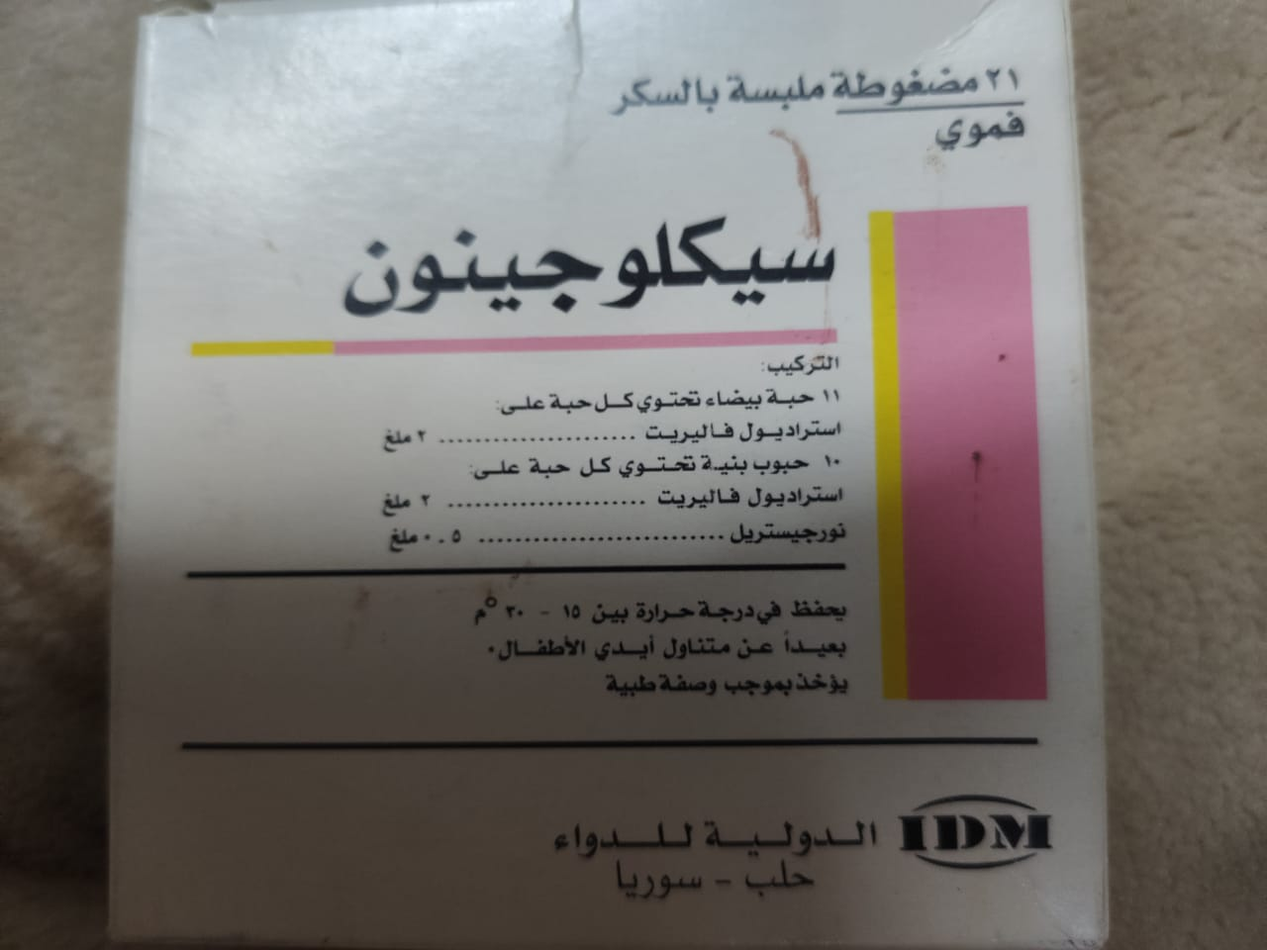Medicine: (97, 12, 1133, 950)
